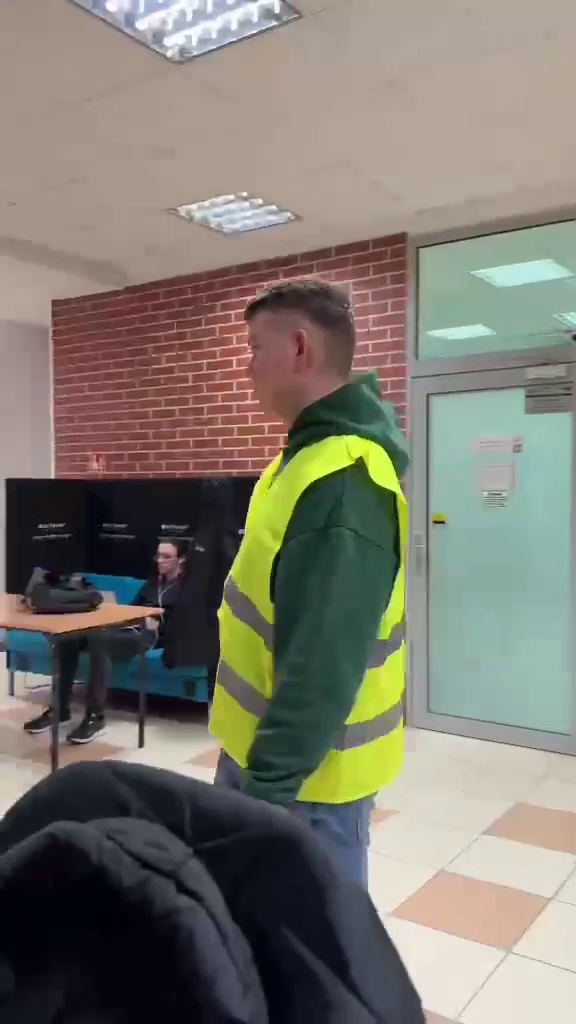no vest: (44, 529, 191, 748)
vest: (220, 274, 419, 841)
